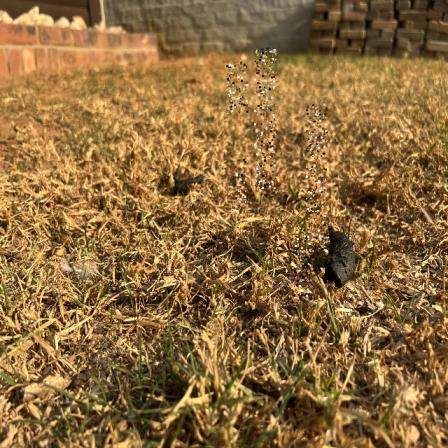dog-poop: (321, 218, 366, 282), (165, 160, 211, 202)
